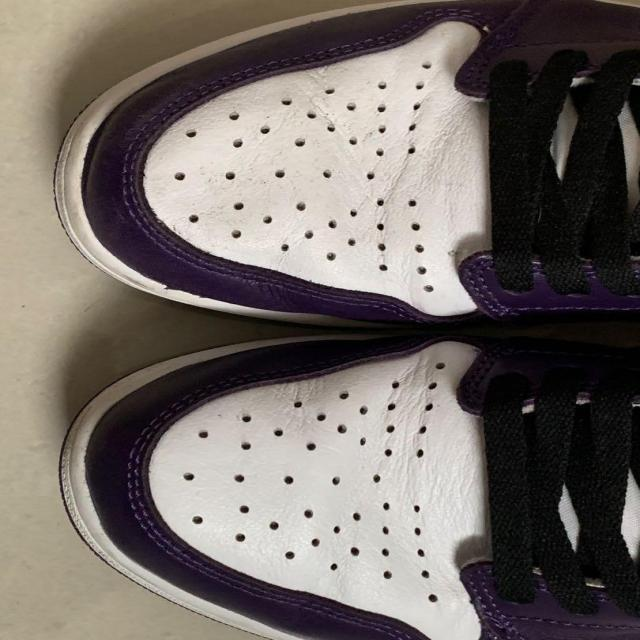nike original jordan 1: (47, 0, 640, 327), (53, 326, 640, 640)
